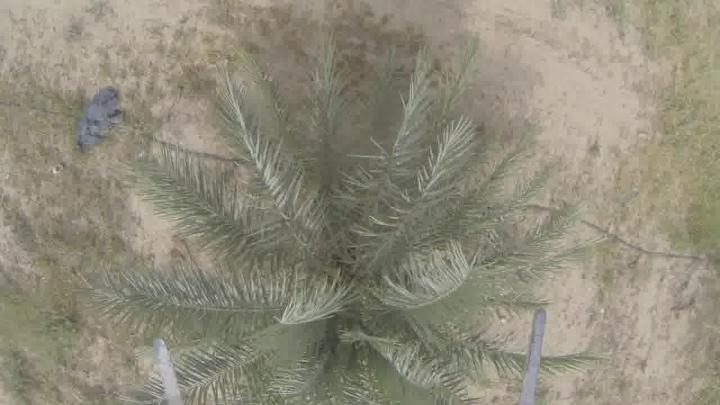Date-Palm-Crown: (201, 129, 495, 405)
